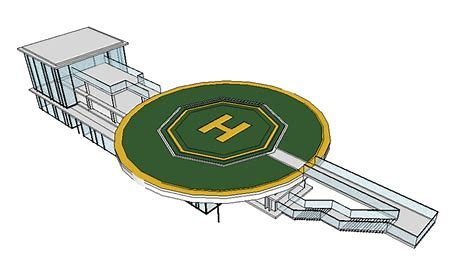H: (196, 113, 252, 143)
